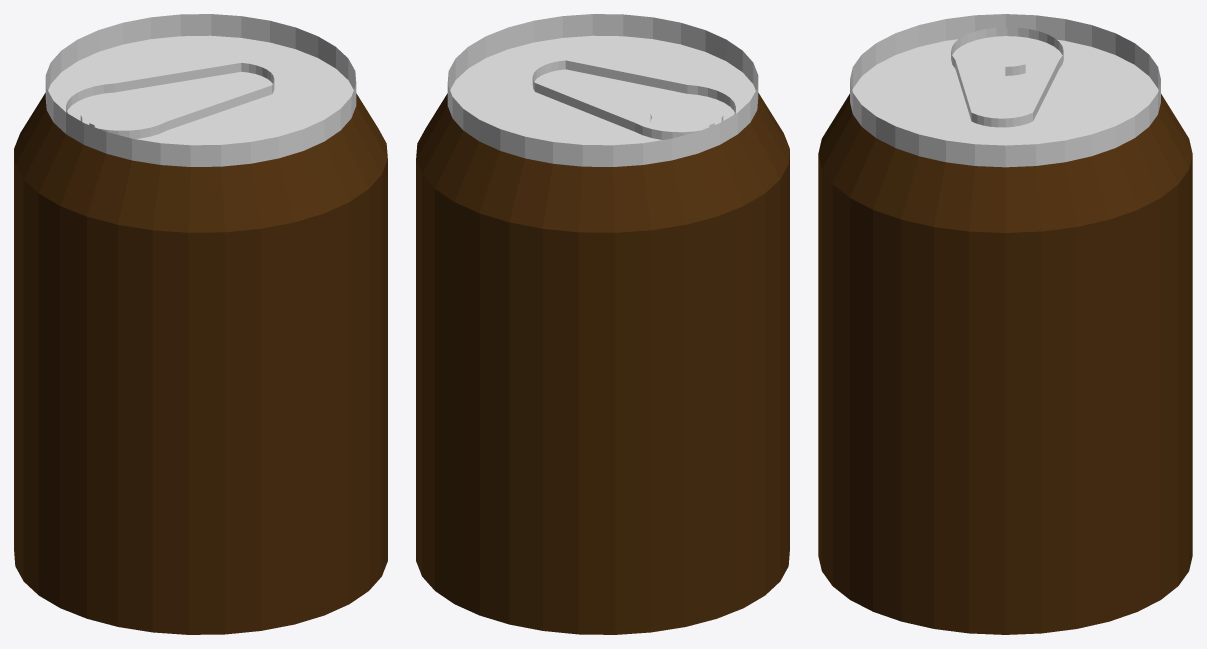
File: can.fbx
3 renders of one model, left to right at view 1: azimuth 30°, elevation 25°; view 2: azimuth 150°, elevation 25°; view 3: azimuth 270°, elevation 25°, orthographic.
Parts seen in each view (by area): view 1: body, 円.001; view 2: body, 円.001; view 3: body, 円.001.
Boxes of the visible parts, x1,y1,x2,y2 form: body: (14,93,387,634); 円.001: (45,14,356,166); body: (416,93,789,634); 円.001: (447,14,758,166); body: (818,94,1192,634); 円.001: (850,14,1160,167).
Bounding box in the file's own units: 200 × 281 × 200.
